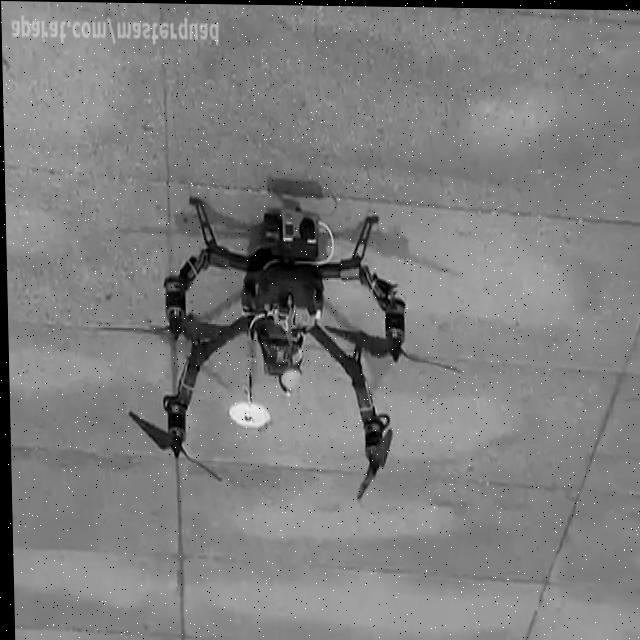drone: (114, 192, 462, 507)
